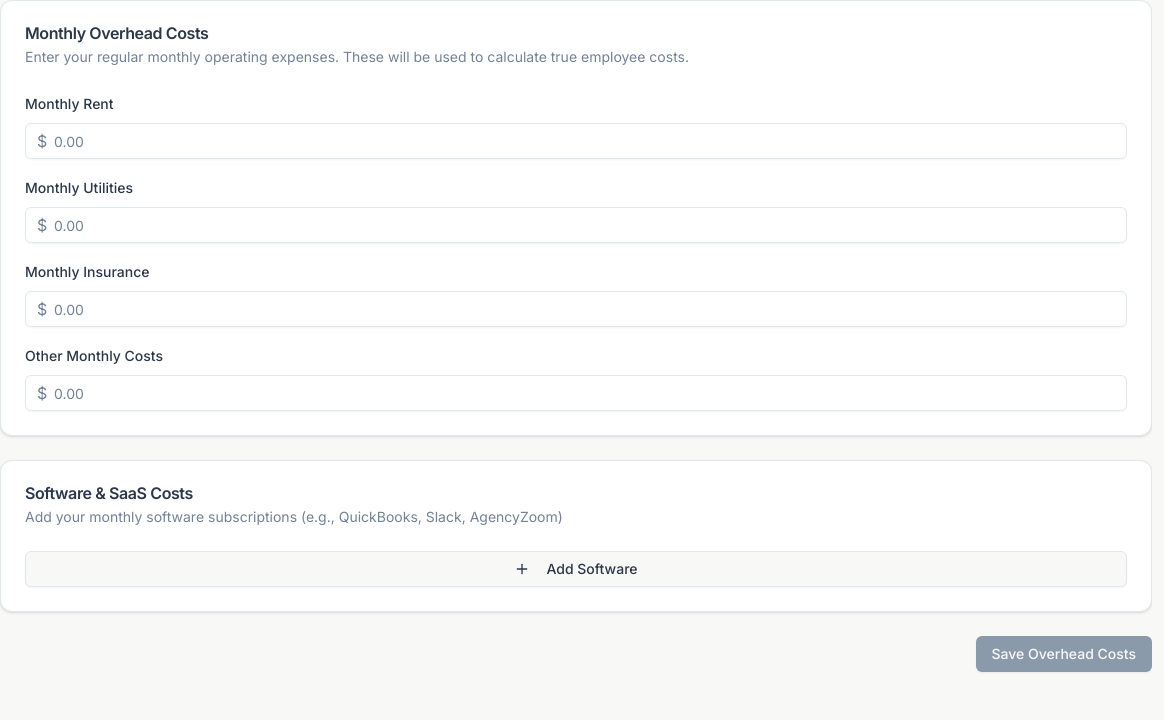
Test case: OverheadCostForm › validation › displays inline error for negative rent value
Step 1. Type "-100" into the number field labelled "Monthly Rent" → (576, 141), box [25, 123, 1127, 159]
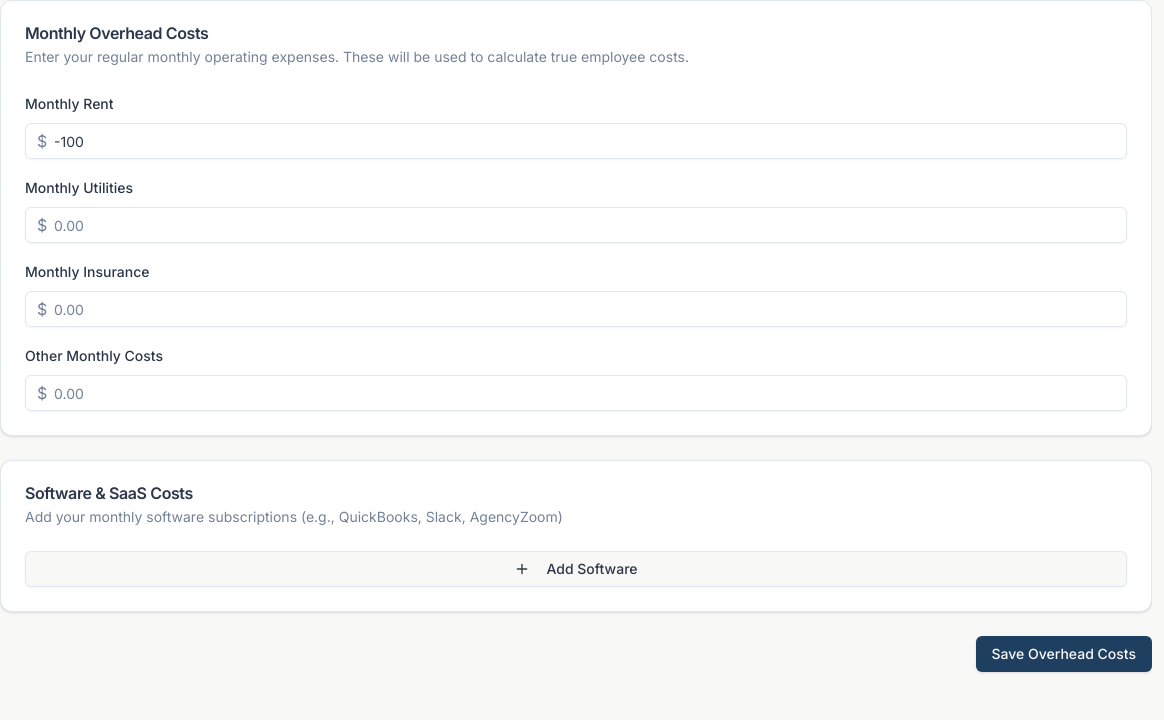
// Submit the form
Step 2. Submit the form named "Save Overhead Costs"
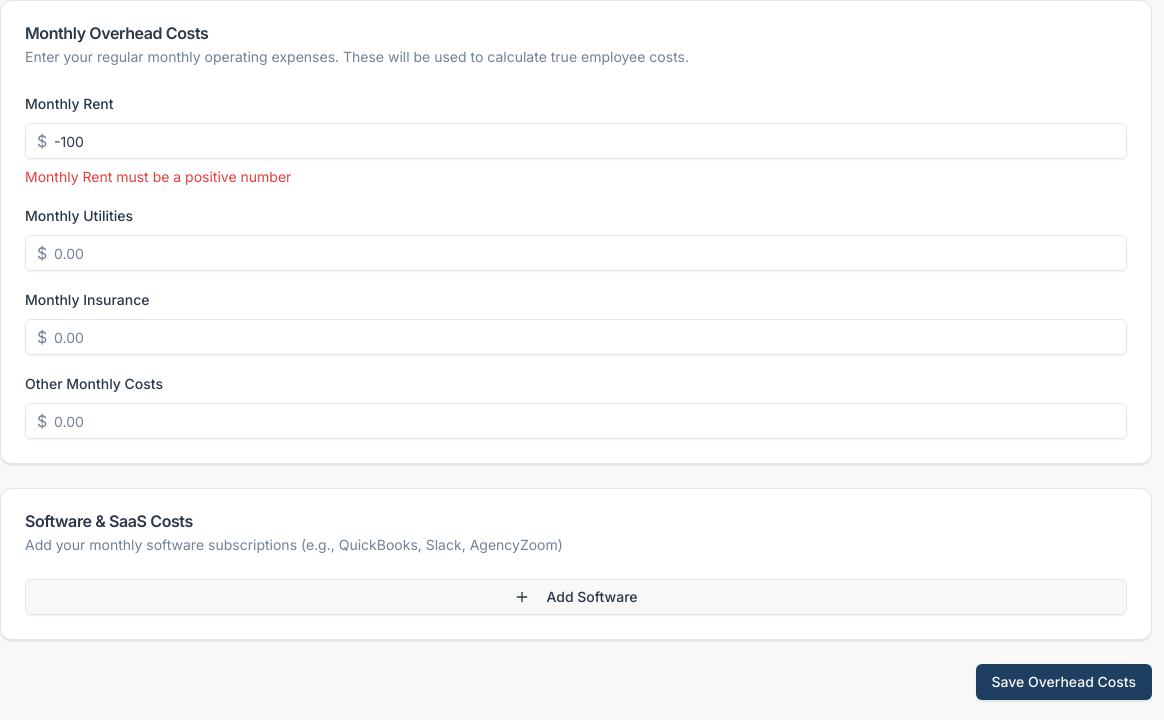
expect the text "Monthly Rent must be a positive number" is shown: met, box [25, 168, 291, 185]
